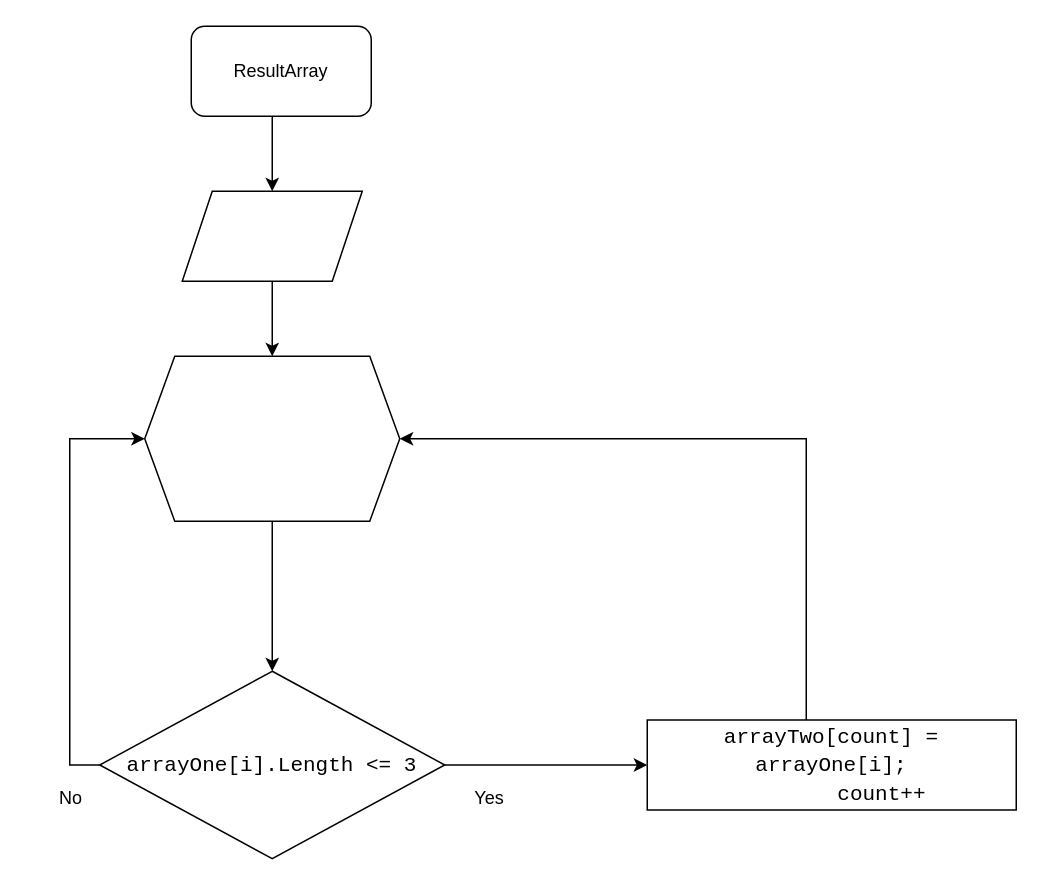
Some shapes in this 1043 by 885 pixel diagram are drawn without their labels. The shapes that lost their labels are listed below. From the top down, each one's centre as x and y in pixels, then its label:
At (271,235): "string[] arrayOne string[] arrayTwo int count = 0".
At (271,438): "for (int i = 0; i < arrayOne.Length; i++)".
